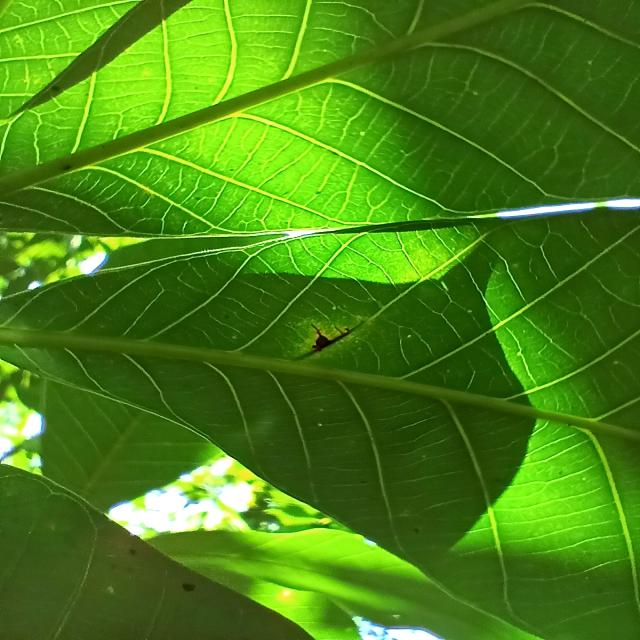Corynespora: (309, 324, 357, 352)
